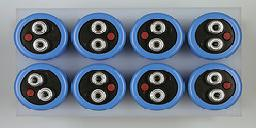Electrolytic-capacitor: (14, 65, 70, 110), (15, 13, 67, 60), (191, 63, 245, 107)
